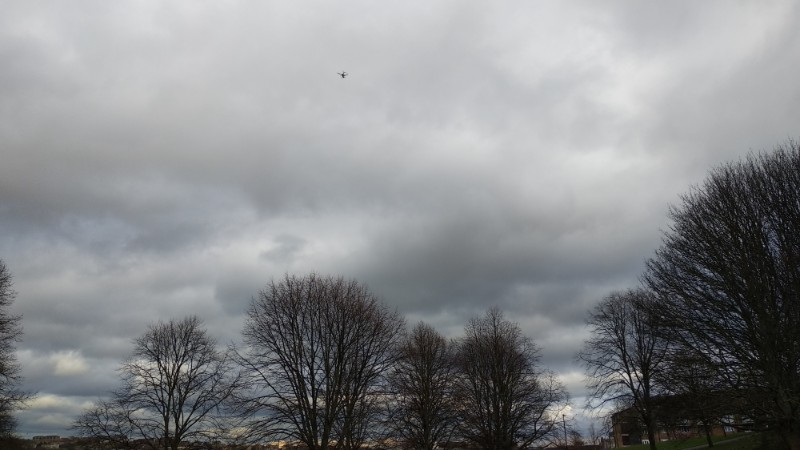drone: (338, 71, 349, 80)
